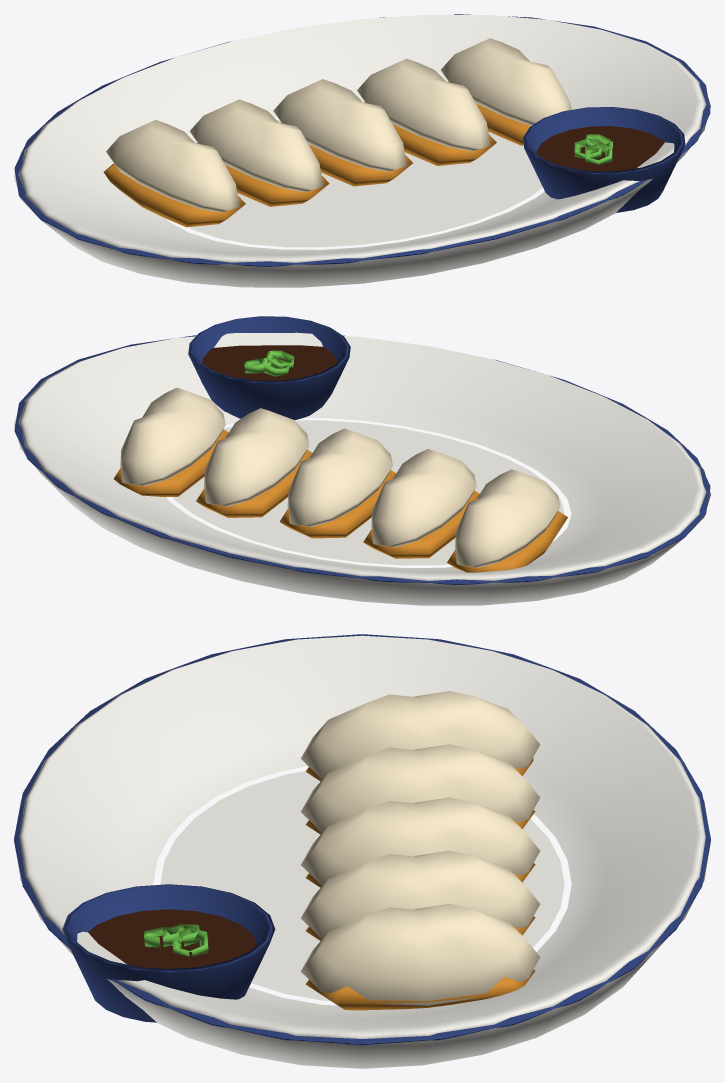
The picture shows the model from 3 angles, top to bottom: view 1: azimuth 30°, elevation 25°; view 2: azimuth 150°, elevation 25°; view 3: azimuth 270°, elevation 25°; orthographic projection. The views are drawn at different scales.
Parts seen in each view (by area): view 1: plate, gyoza (×5), plate_well, crust (×5), sauce_dish, plate_band, sauce; view 2: plate, gyoza (×5), plate_well, crust (×5), sauce_dish, plate_band, sauce; view 3: plate, gyoza (×5), plate_well, sauce_dish, plate_band, sauce, crust.
Boxes of the visible parts, x1,y1,x2,y2 form: plate: [14, 14, 710, 287]; gyoza (×5): [106, 38, 571, 212]; plate_well: [188, 120, 542, 247]; crust (×5): [103, 81, 530, 227]; sauce_dish: [523, 107, 685, 212]; plate_band: [14, 14, 710, 266]; sauce: [536, 126, 664, 171]; plate: [14, 332, 710, 605]; gyoza (×5): [120, 387, 560, 567]; plate_well: [173, 420, 564, 565]; crust (×5): [114, 429, 567, 572]; sauce_dish: [188, 316, 350, 419]; plate_band: [14, 335, 710, 584]; sauce: [202, 345, 337, 380]; plate: [14, 635, 710, 1068]; gyoza (×5): [301, 691, 540, 1005]; plate_well: [160, 771, 564, 1000]; sauce_dish: [62, 884, 275, 1022]; plate_band: [14, 634, 710, 1045]; sauce: [88, 909, 256, 968]; crust: [305, 969, 535, 1010].
Size of the model in its own units: 0.2 by 0.0268 by 0.144.
